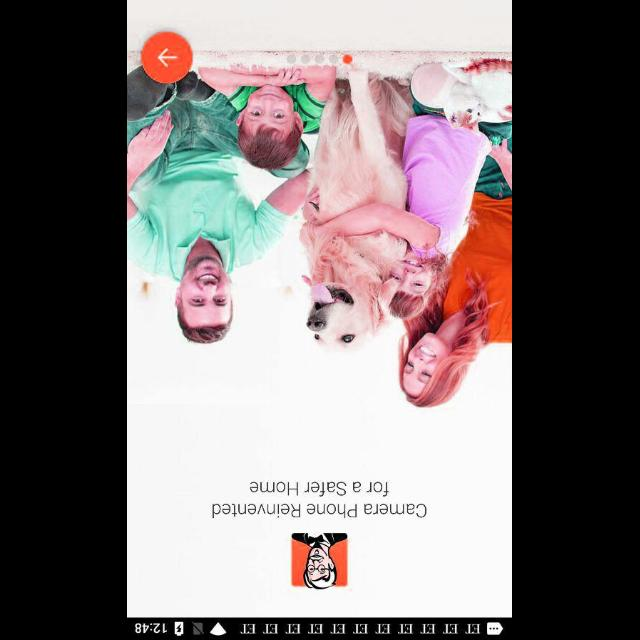backgroundimage: (128, 0, 512, 616)
icon: (142, 31, 194, 83)
image: (292, 532, 348, 588)
pageindicator: (286, 54, 354, 64)
text: (213, 480, 427, 518)
uppertaskbar: (128, 617, 512, 639)
